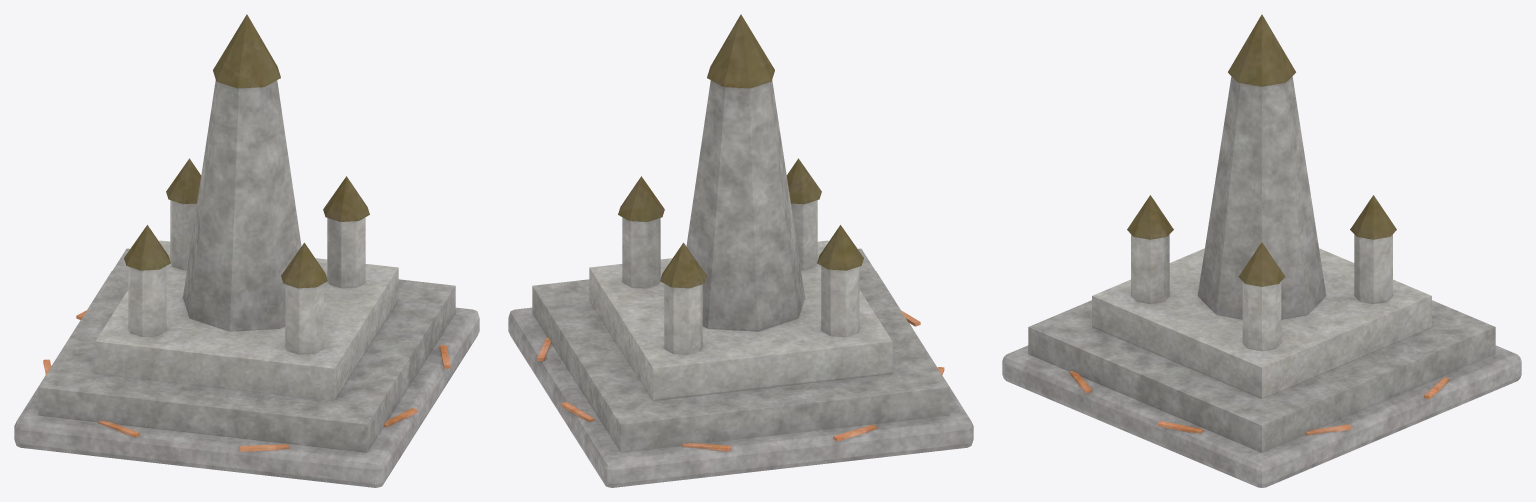
File: throne.glb
The picture shows the model from 3 angles, left to right: view 1: azimuth 30°, elevation 25°; view 2: azimuth 150°, elevation 25°; view 3: azimuth 270°, elevation 25°; orthographic projection. The views are drawn at different scales.
Visible parts, largest first — view 1: dilek; view 2: dilek; view 3: dilek.
Part boxes in pixels (<box>): dilek: <box>14,14,479,487</box>; dilek: <box>508,14,973,487</box>; dilek: <box>1002,14,1521,487</box>.
Size of the model in its own units: 2.42 by 1.89 by 2.42.
Materials: 1 (1 with a texture image).
